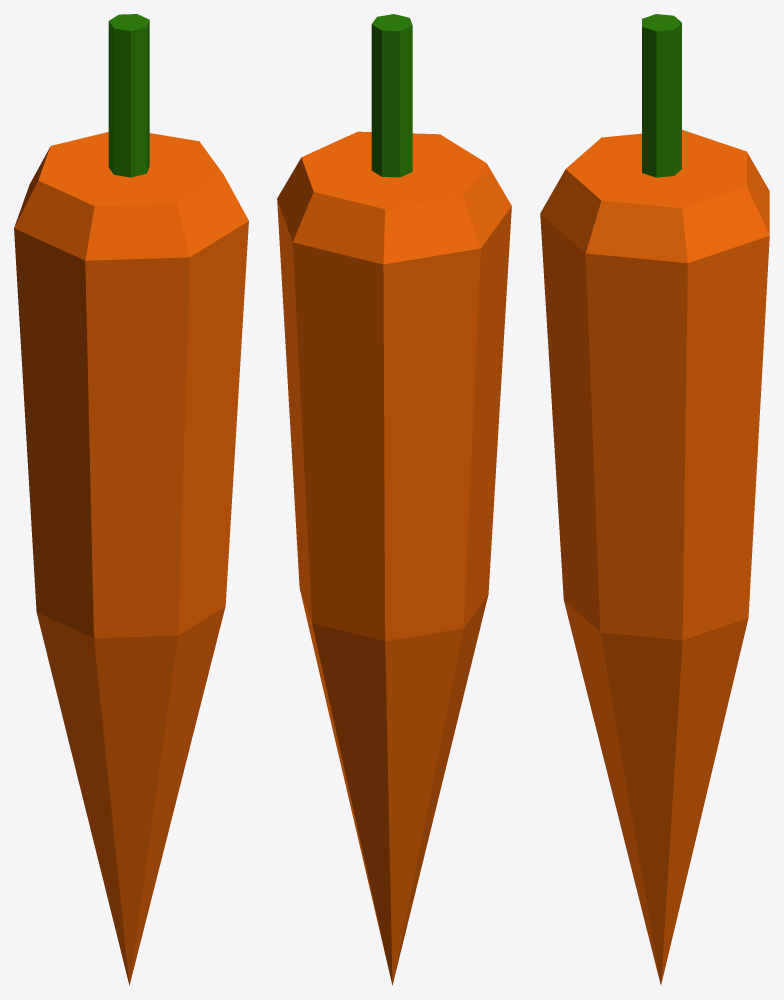
The model's file is CarrotSpear.fbx.
3 views of the same model, side by side, from view 1: azimuth 30°, elevation 25°; view 2: azimuth 150°, elevation 25°; view 3: azimuth 270°, elevation 25° (orthographic).
Visible parts, largest first — view 1: Cone; view 2: Cone; view 3: Cone.
Boxes of the visible parts, x1,y1,x2,y2 form: Cone: (14, 14, 248, 985); Cone: (277, 14, 511, 985); Cone: (540, 14, 769, 984).
Bounding box in the file's own units: 242 × 1094 × 236.
